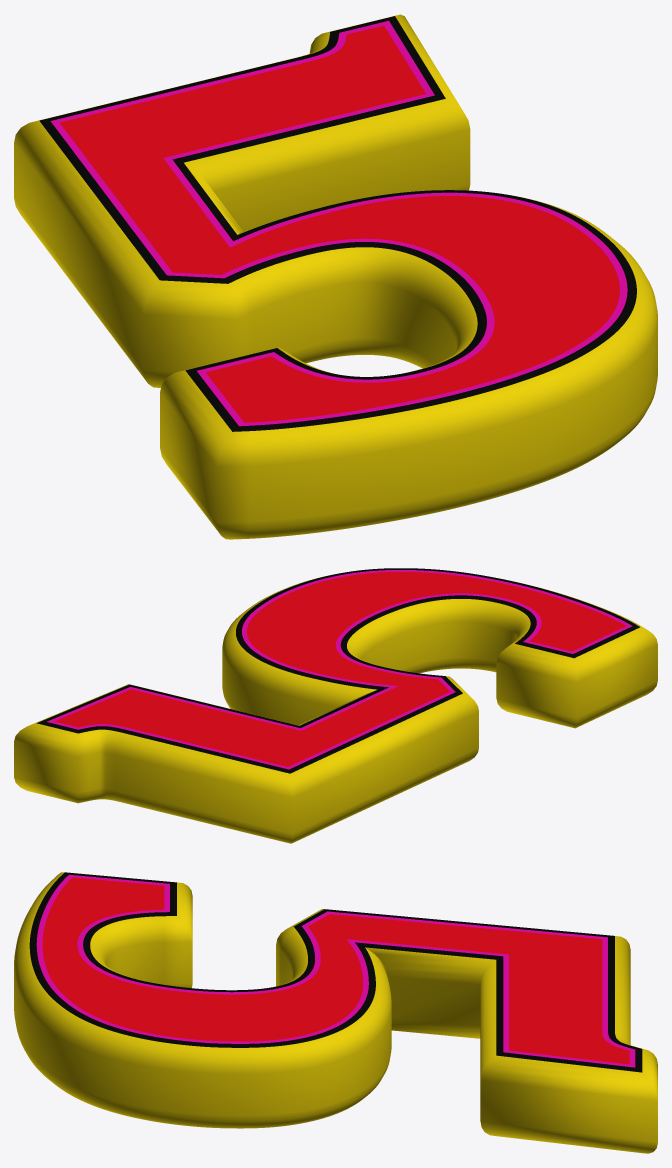
File: Slot_Numbers_Five.fbx
The picture shows the model from 3 angles, top to bottom: view 1: azimuth 30°, elevation 25°; view 2: azimuth 150°, elevation 25°; view 3: azimuth 270°, elevation 25°; orthographic projection. The views are drawn at different scales.
Visible parts, largest first — view 1: Five; view 2: Five; view 3: Five.
Boxes of the visible parts, x1,y1,x2,y2 form: Five: (14, 14, 657, 539); Five: (14, 568, 657, 843); Five: (14, 872, 657, 1153).
Size of the model in its own units: 44.98 by 8 by 56.5.
